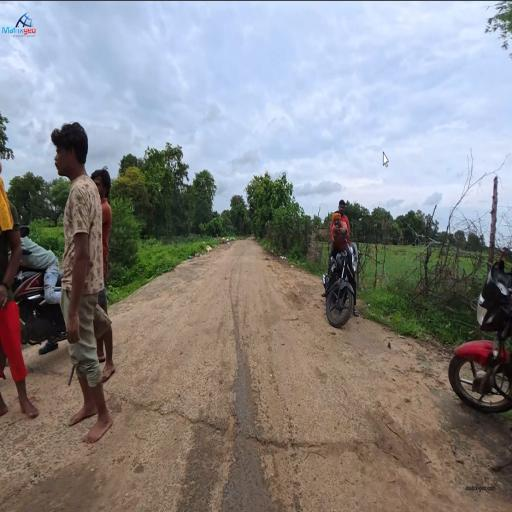longitudinal_crack: (131, 373, 329, 468)
